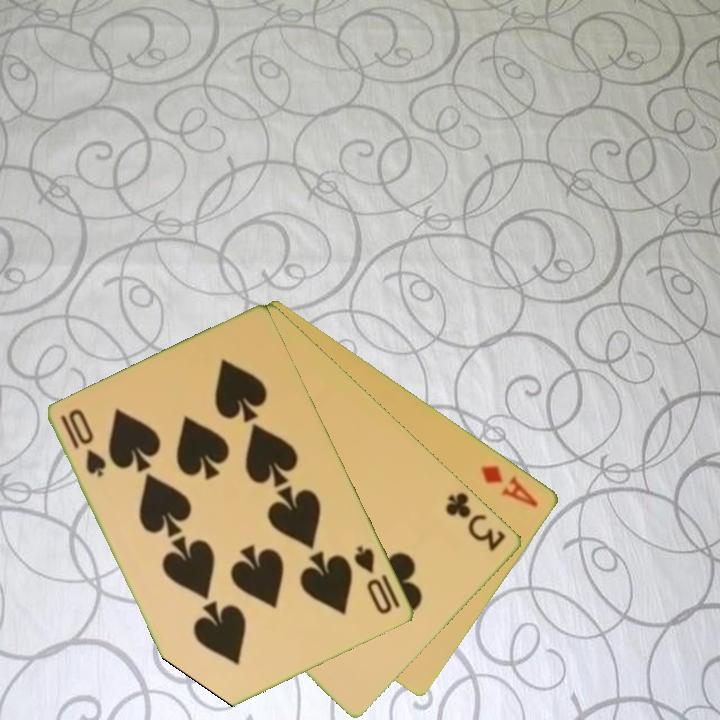10s: (57, 405, 110, 480), (351, 542, 396, 618)
3c: (442, 488, 510, 554)
Ad: (477, 461, 542, 511)
